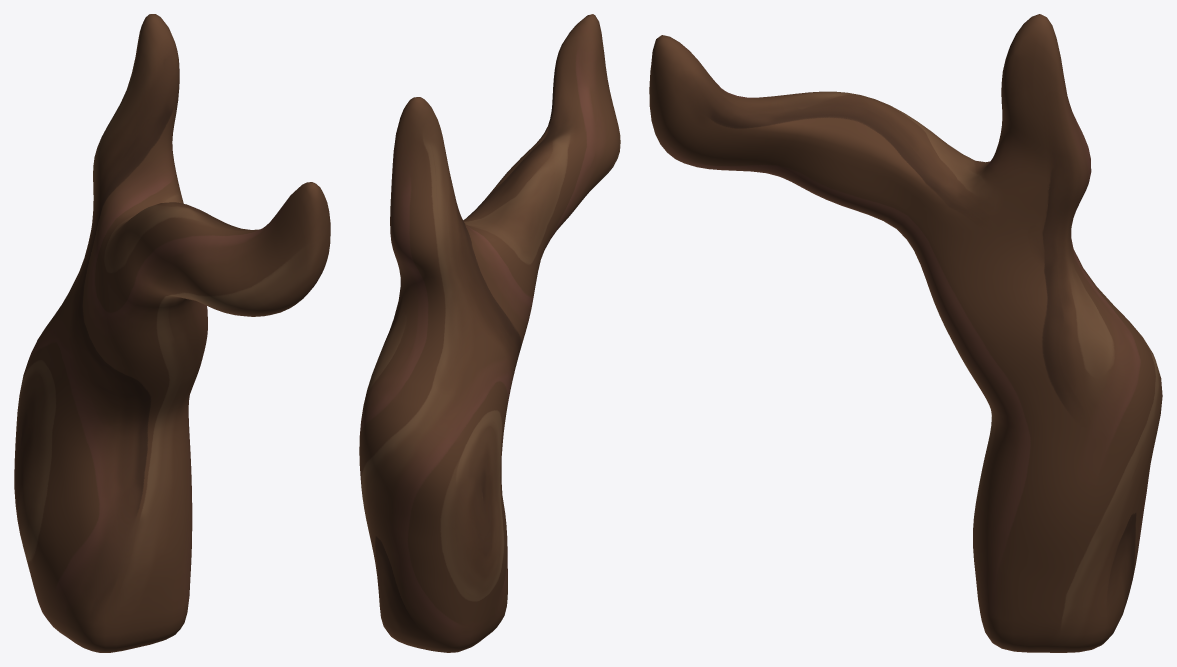
Rendered from BlockingBranchAngel.fbx.
3 renders of one model, left to right at view 1: azimuth 30°, elevation 25°; view 2: azimuth 150°, elevation 25°; view 3: azimuth 270°, elevation 25°, orthographic. The views are drawn at different scales.
Visible parts, largest first — view 1: BlockingBranchAngel; view 2: BlockingBranchAngel; view 3: BlockingBranchAngel.
Part boxes in pixels (left/top/right/bottom): BlockingBranchAngel: left=14, top=14, right=330, bottom=652; BlockingBranchAngel: left=359, top=14, right=620, bottom=652; BlockingBranchAngel: left=649, top=14, right=1162, bottom=652.
Size of the model in its own units: 82.56 by 327 by 237.
Materials: 1 (1 with a texture image).
